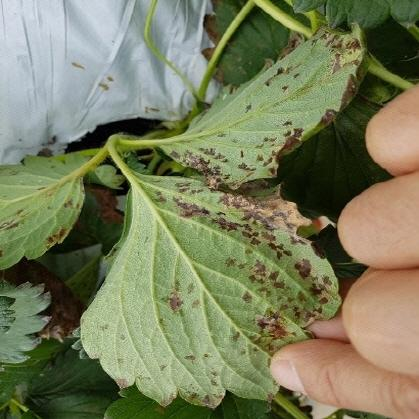Angular Leafspot: (79, 171, 343, 409), (153, 22, 372, 189), (0, 150, 100, 269)
